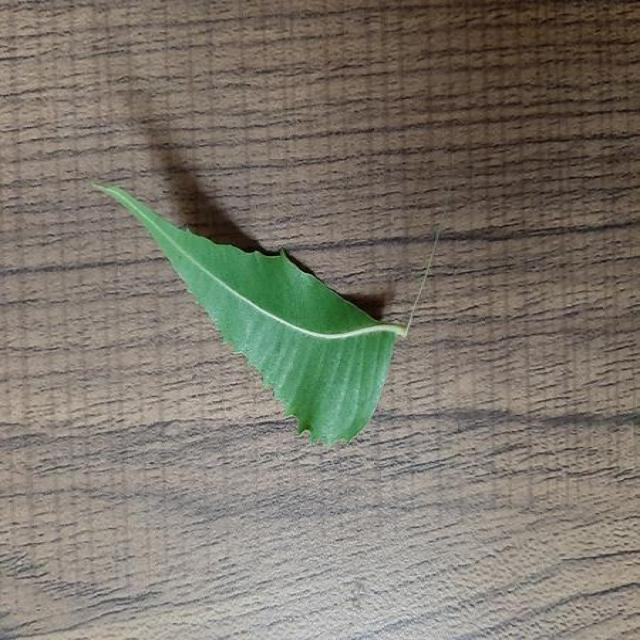neem: (96, 185, 407, 443)
